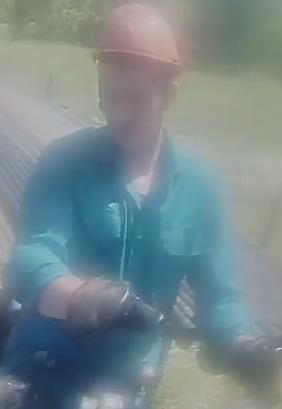gloves: (60, 271, 135, 339), (227, 329, 282, 403)
helmet: (95, 3, 181, 76)
vest: (32, 131, 198, 379)
